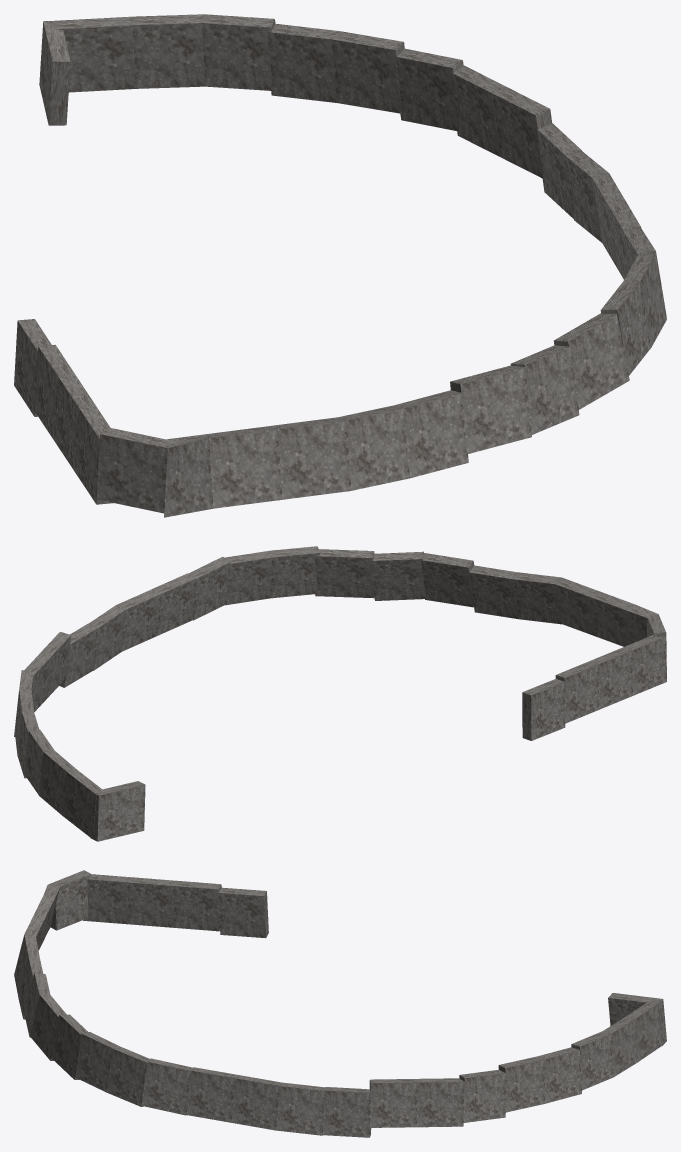
File: 下壁四角内.fbx
3 renders of one model, top to bottom at view 1: azimuth 30°, elevation 25°; view 2: azimuth 150°, elevation 25°; view 3: azimuth 270°, elevation 25°, orthographic. The views are drawn at different scales.
Visible parts, largest first — view 1: 床□_1_29, 床□_1_28, 床□_1_25, 床□_1_2, 床□_1_9, 床□_1_8, 床□_1_10, 床□_1_12, 床□_1_11, 床□_1_26, 床□_1_27, 床□_1_23 (+17 smaller); view 2: 床□_1_23, 床□_1_7, 床□_1_24, 床□_1_25, 床□_1_22, 床□_1_6, 床□_1_26, 床□_1_21, 床□_1_27, 床□_1_5, 床□_1_4, 床□_1_3 (+15 smaller); view 3: 床□_1_6, 床□_1_16, 床□_1_15, 床□_1_14, 床□_1_17, 床□_1_19, 床□_1_18, 床□_1_20, 床□_1_4, 床□_1_5, 床□_1_13, 床□_1_12 (+15 smaller).
Part boxes in pixels (box(x1,y1,x2,y2)): 床□_1_29: box(204, 425, 282, 508); 床□_1_28: box(273, 417, 351, 499); 床□_1_25: box(450, 365, 531, 454); 床□_1_2: box(96, 427, 173, 513); 床□_1_9: box(131, 14, 205, 88); 床□_1_8: box(53, 16, 135, 92); 床□_1_10: box(200, 14, 275, 90); 床□_1_12: box(331, 31, 404, 113); 床□_1_11: box(267, 23, 338, 102); 床□_1_26: box(395, 390, 468, 478); 床□_1_27: box(338, 405, 409, 490); 床□_1_23: box(553, 313, 629, 409); 床□_1_23: box(314, 549, 374, 598); 床□_1_7: box(90, 781, 145, 841); 床□_1_24: box(369, 551, 426, 600); 床□_1_25: box(421, 553, 474, 607); 床□_1_22: box(270, 546, 319, 598); 床□_1_6: box(522, 679, 565, 740); 床□_1_26: box(469, 565, 519, 619); 床□_1_21: box(225, 550, 272, 605); 床□_1_27: box(513, 572, 562, 624); 床□_1_5: box(555, 661, 599, 723); 床□_1_4: box(590, 647, 632, 709); 床□_1_3: box(623, 635, 666, 695); 床□_1_6: box(218, 887, 268, 938); 床□_1_16: box(323, 1087, 371, 1137); 床□_1_15: box(369, 1079, 417, 1127); 床□_1_14: box(416, 1078, 464, 1127); 床□_1_17: box(276, 1082, 324, 1135); 床□_1_19: box(186, 1067, 238, 1122); 床□_1_18: box(231, 1075, 281, 1130); 床□_1_20: box(141, 1058, 192, 1115); 床□_1_4: box(127, 877, 175, 927); 床□_1_5: box(173, 880, 221, 931); 床□_1_13: box(459, 1069, 506, 1122); 床□_1_12: box(498, 1056, 544, 1112).
Bounding box in the file's own units: 217 × 25.45 × 277.
Materials: 1 (1 with a texture image).
